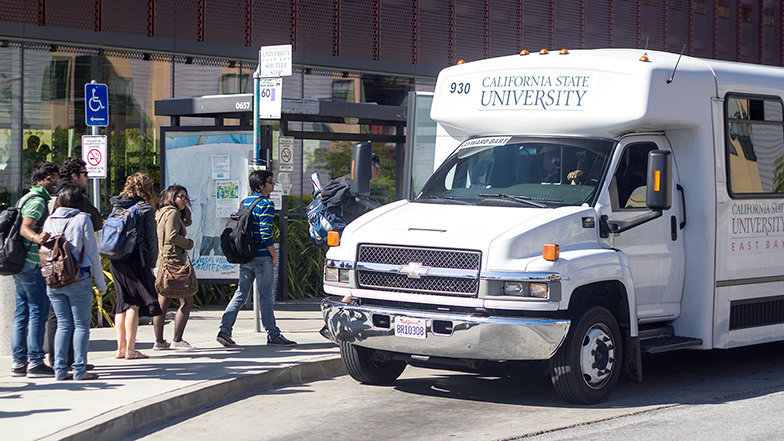Person: (216, 170, 299, 348), (39, 182, 106, 380), (1, 161, 59, 379), (100, 171, 157, 359), (153, 184, 197, 350)
